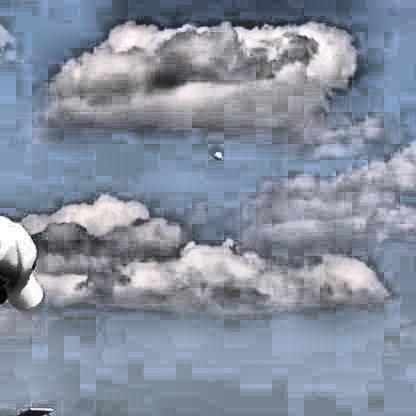golfball: (212, 149, 223, 163)
